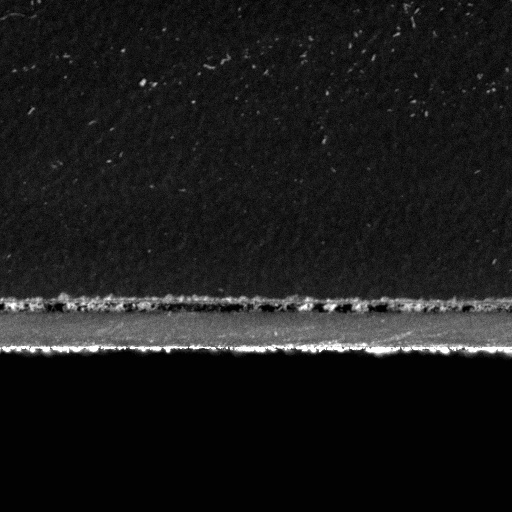jiaofeng: (158, 299, 299, 315), (314, 300, 402, 315)
